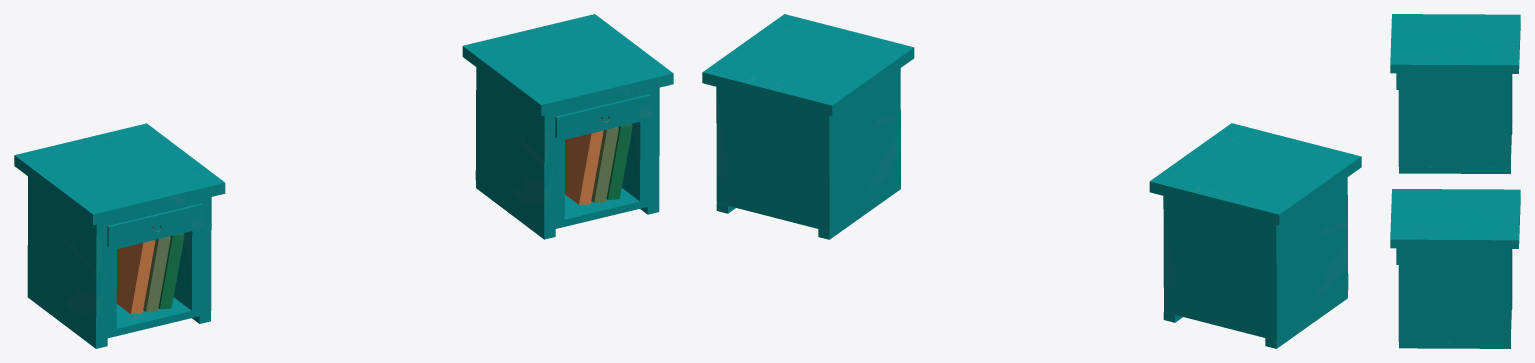
File: Buroes.obj
3 renders of one model, left to right at view 1: azimuth 30°, elevation 25°; view 2: azimuth 150°, elevation 25°; view 3: azimuth 270°, elevation 25°, orthographic. The views are drawn at different scales.
Parts seen in each view (by area): view 1: Cubo.003, Cubo.002_Cubo.001; view 2: Cubo.002_Cubo.001, Cubo.003; view 3: Cubo.003, Cubo.002_Cubo.001.
Boxes of the visible parts, <box> form: Cubo.003: <box>14,123,225,348</box>; Cubo.002_Cubo.001: <box>462,14,673,239</box>; Cubo.002_Cubo.001: <box>702,14,914,239</box>; Cubo.003: <box>1149,123,1361,348</box>; Cubo.003: <box>1390,14,1520,173</box>; Cubo.002_Cubo.001: <box>1390,189,1520,348</box>.
Bounding box in the file's own units: 28.79 × 6.67 × 7.
Materials: 2 (2 with a texture image).
